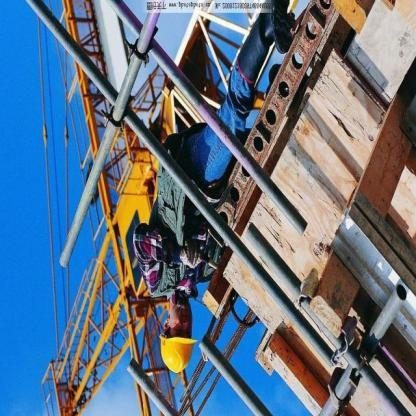yellow: (153, 329, 201, 378)
